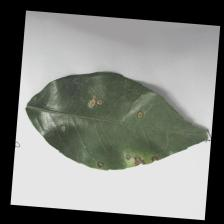canker: (54, 89, 162, 187)
